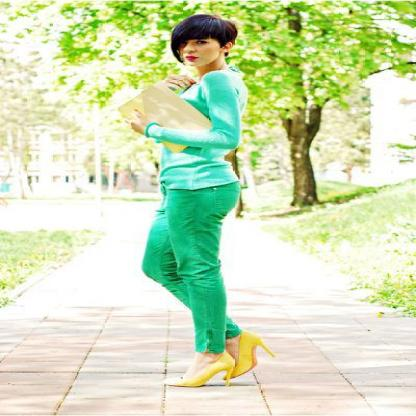bag: (118, 75, 211, 139)
pants: (137, 182, 237, 353)
shirt: (146, 58, 250, 190)
shoe: (187, 336, 282, 387)
